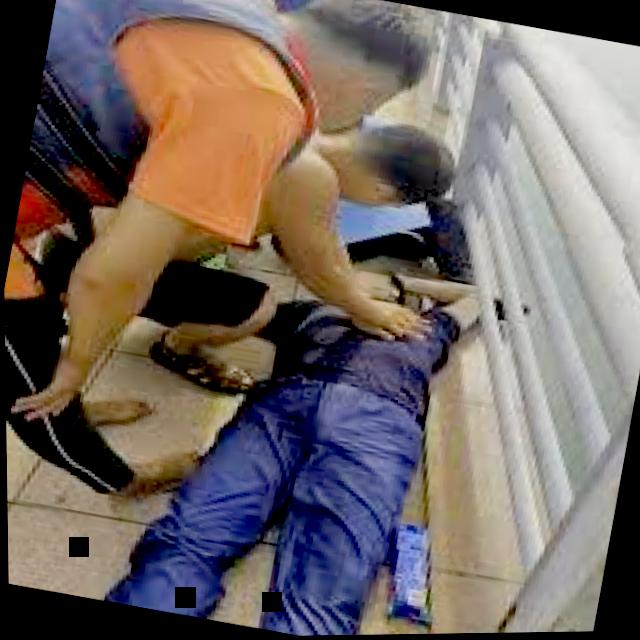Fall-Detected: (69, 155, 524, 639)
